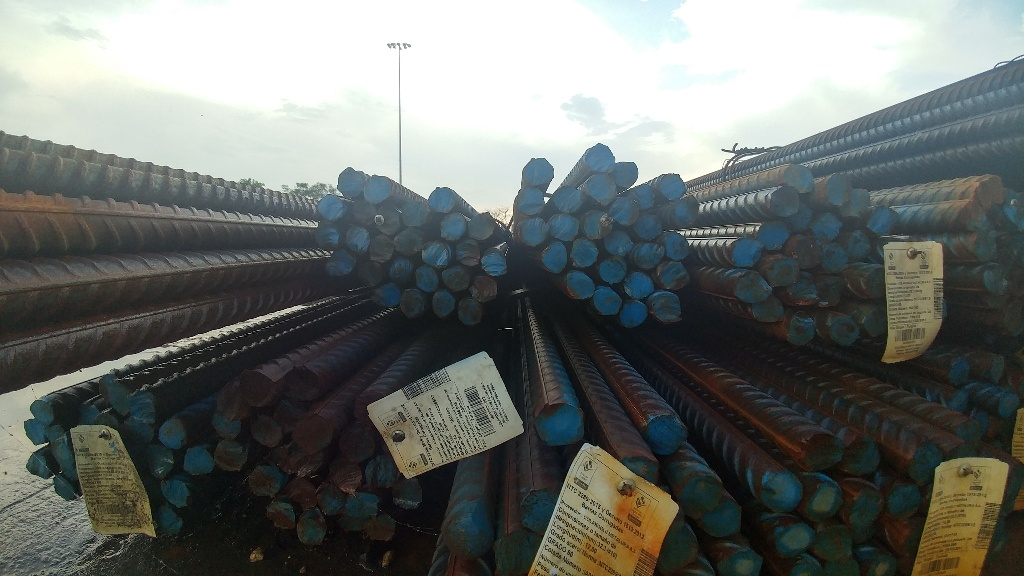dipstick: (646, 519, 698, 569), (536, 399, 585, 447), (678, 469, 720, 517), (647, 413, 690, 458), (443, 516, 491, 556), (520, 487, 564, 529), (615, 453, 664, 490), (847, 482, 885, 528), (697, 498, 741, 537), (293, 413, 333, 455), (904, 444, 946, 484), (842, 435, 882, 476), (804, 478, 842, 521), (801, 433, 842, 471), (733, 271, 776, 307), (339, 425, 378, 463), (815, 524, 853, 563), (763, 473, 802, 510), (781, 158, 822, 193), (774, 521, 814, 556), (886, 483, 922, 521), (240, 366, 274, 406), (717, 546, 762, 576), (247, 415, 284, 449), (650, 291, 685, 326), (583, 141, 617, 176), (970, 175, 1008, 206), (786, 272, 820, 306), (128, 390, 160, 426), (181, 447, 218, 478), (158, 416, 188, 454), (827, 313, 861, 346), (295, 510, 328, 544), (211, 411, 246, 442), (363, 510, 399, 540), (213, 444, 251, 472), (287, 370, 320, 402), (791, 236, 824, 268), (330, 460, 362, 493), (285, 478, 317, 510), (161, 477, 192, 510), (520, 158, 559, 184), (586, 174, 616, 207), (824, 172, 853, 206), (394, 476, 423, 510), (345, 492, 380, 520), (146, 443, 174, 478), (727, 239, 764, 265), (818, 243, 849, 274), (757, 219, 789, 249), (957, 200, 989, 230), (540, 240, 569, 273), (425, 186, 459, 214), (519, 217, 550, 247), (567, 271, 597, 302), (753, 293, 784, 323), (334, 167, 366, 196), (441, 265, 473, 294), (768, 257, 800, 286), (789, 314, 817, 347), (421, 239, 451, 269), (349, 196, 379, 226), (663, 230, 692, 261), (868, 205, 899, 234), (469, 273, 500, 302), (624, 269, 653, 300), (252, 467, 283, 496), (812, 213, 844, 241), (268, 500, 295, 533), (154, 508, 188, 534), (860, 266, 885, 301), (482, 248, 511, 278), (466, 210, 495, 240), (570, 239, 600, 268), (772, 186, 802, 215), (980, 266, 1010, 295), (549, 215, 580, 243), (554, 185, 583, 214), (612, 197, 641, 226), (621, 299, 650, 328), (22, 417, 51, 446), (516, 186, 546, 214), (594, 286, 622, 316), (842, 186, 870, 216), (377, 205, 405, 235), (317, 193, 344, 224), (604, 229, 635, 256), (847, 228, 872, 261), (366, 234, 394, 263), (864, 307, 892, 336), (365, 172, 392, 202), (598, 258, 628, 285), (440, 212, 467, 242), (656, 173, 687, 199), (30, 448, 57, 477), (973, 229, 998, 260), (110, 383, 134, 415), (402, 200, 430, 227), (314, 224, 342, 251), (325, 252, 357, 275), (401, 289, 426, 318), (866, 556, 902, 576), (458, 296, 481, 327), (375, 283, 403, 308), (947, 356, 972, 384), (344, 226, 370, 251), (416, 266, 440, 293), (29, 400, 57, 423), (997, 390, 1018, 419), (615, 161, 639, 186), (52, 475, 77, 499), (986, 354, 1005, 383), (956, 418, 979, 439), (76, 404, 98, 423)
